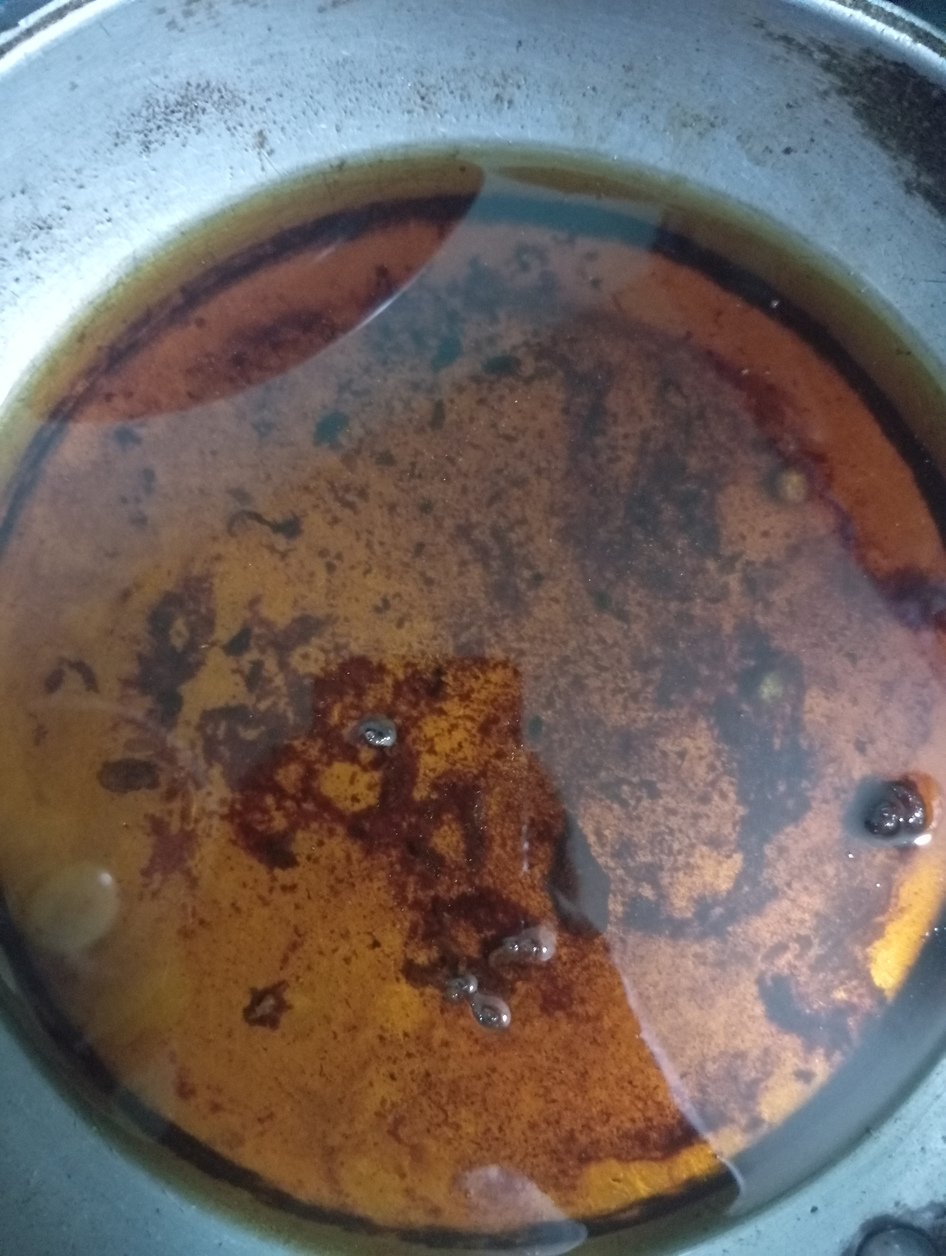non-reusable: (0, 142, 946, 1256)
